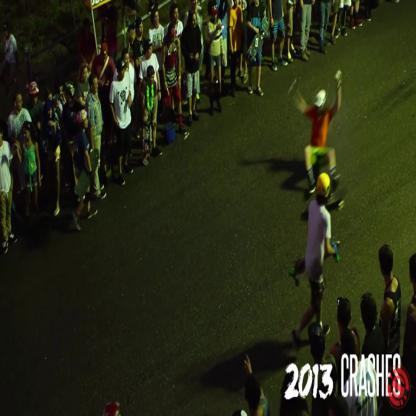Fall_Down: (290, 66, 343, 196)
